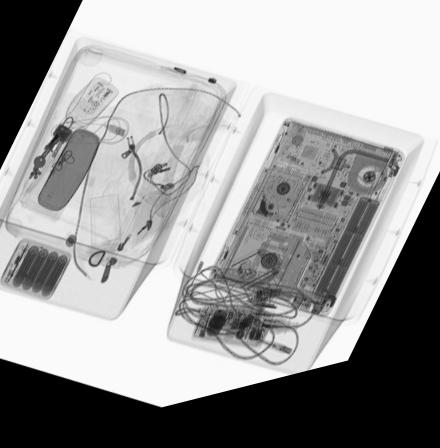Powerbank: (0, 235, 76, 304)
